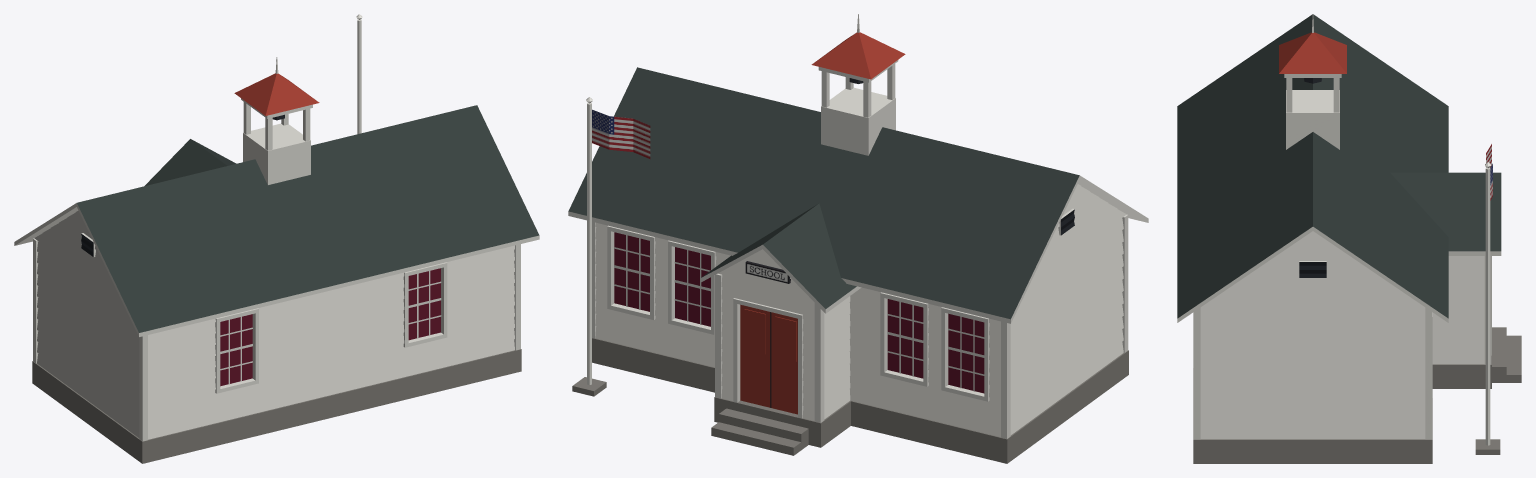
File: school.glb
3 renders of one model, left to right at view 1: azimuth 30°, elevation 25°; view 2: azimuth 150°, elevation 25°; view 3: azimuth 270°, elevation 25°, orthographic. The views are drawn at different scales.
Parts seen in each view (by area): view 1: School; view 2: School; view 3: School.
Boxes of the visible parts, <box> form: School: <box>14,14,539,463</box>; School: <box>568,14,1148,463</box>; School: <box>1177,14,1521,463</box>.
Bounding box in the file's own units: 10.2 × 7.8 × 6.98.
Materials: 7 (1 with a texture image).
